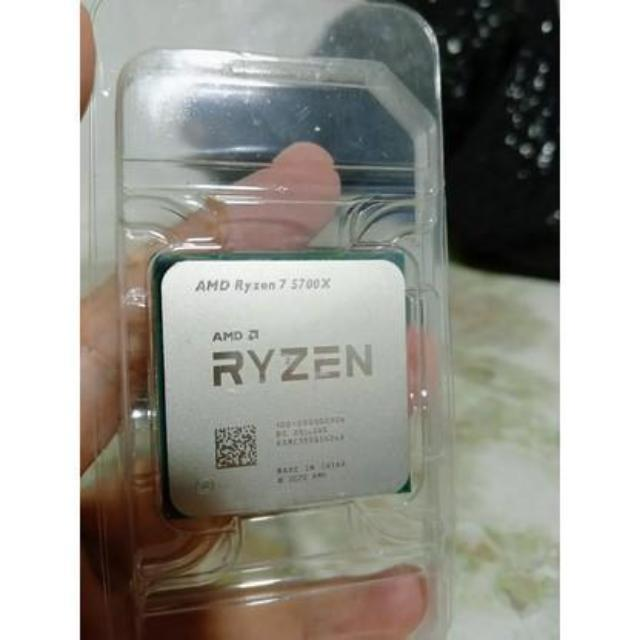CPU: (149, 249, 409, 520)
